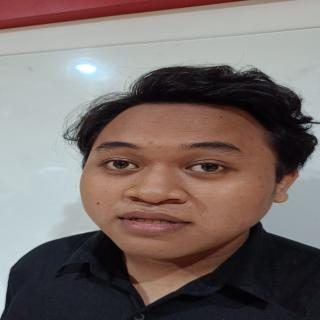Takut: (80, 91, 280, 256)
